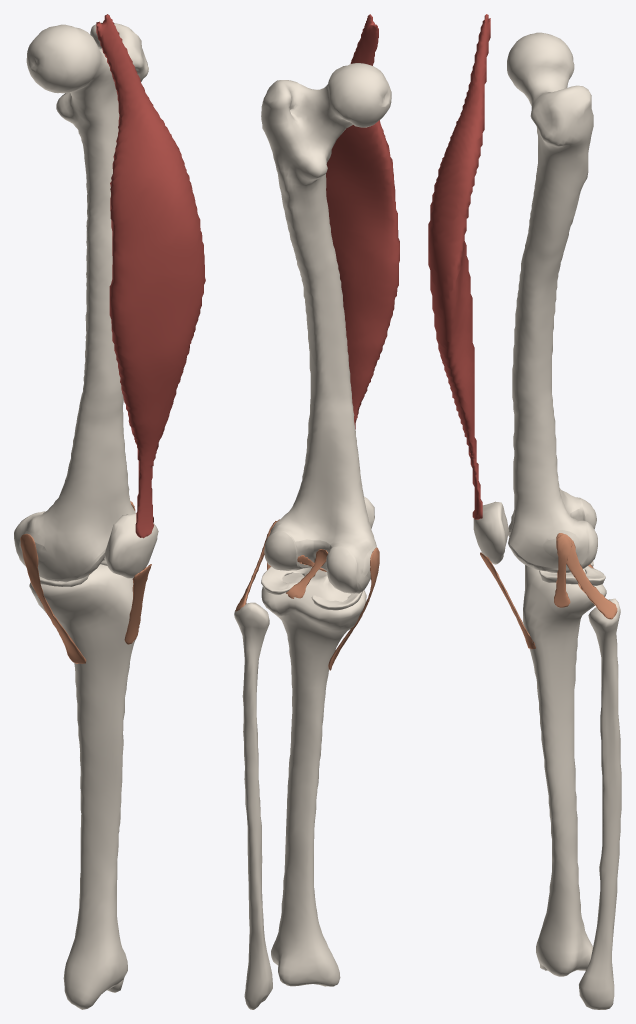
File: lutut.glb
3 views of the same model, side by side, from view 1: azimuth 30°, elevation 25°; view 2: azimuth 150°, elevation 25°; view 3: azimuth 270°, elevation 25° (orthographic). The views are drawn at different scales.
Parts seen in each view (by area): view 1: Left rectus femoris, Left femur, Left tibia, Left patella, Left tibial collateral ligament, Left tendon of quadriceps femoris, Left patellar ligament; view 2: Left femur, Left tibia, Left rectus femoris, Left fibula, Left meniscus, Medial condyle of left femur inf, Left lateral condyle of femur inf, Left tibial collateral ligament, Left posterior cruciate ligament of knee; view 3: Left femur, Left tibia, Left rectus femoris, Left fibula, Left patella, Left fibular collateral ligament, Left anterolateral ligament of knee, Left meniscus, Left patellar ligament, Left tendon of quadriceps femoris.
Part boxes in pixels (x1,y1,x2,y2): Left rectus femoris: [96, 14, 205, 469]; Left femur: [14, 22, 148, 579]; Left tibia: [29, 564, 135, 1009]; Left patella: [104, 513, 158, 578]; Left tibial collateral ligament: [20, 533, 86, 663]; Left tendon of quadriceps femoris: [135, 465, 153, 538]; Left patellar ligament: [124, 564, 151, 644]; Left femur: [261, 63, 391, 588]; Left tibia: [261, 569, 366, 986]; Left rectus femoris: [326, 14, 399, 426]; Left fibula: [234, 602, 272, 1009]; Left meniscus: [261, 566, 362, 610]; Medial condyle of left femur inf: [326, 547, 358, 592]; Left lateral condyle of femur inf: [264, 531, 297, 570]; Left tibial collateral ligament: [328, 547, 379, 670]; Left posterior cruciate ligament of knee: [286, 549, 327, 598]; Left femur: [507, 32, 593, 568]; Left tibia: [523, 565, 606, 976]; Left rectus femoris: [428, 14, 490, 457]; Left fibula: [579, 598, 621, 1009]; Left patella: [473, 501, 508, 564]; Left fibular collateral ligament: [556, 533, 617, 619]; Left anterolateral ligament of knee: [554, 534, 572, 607]; Left meniscus: [539, 561, 605, 585]; Left patellar ligament: [480, 552, 535, 649]; Left tendon of quadriceps femoris: [468, 452, 482, 519].
Size of the model in its own units: 0.2553 by 2 by 0.3624.
